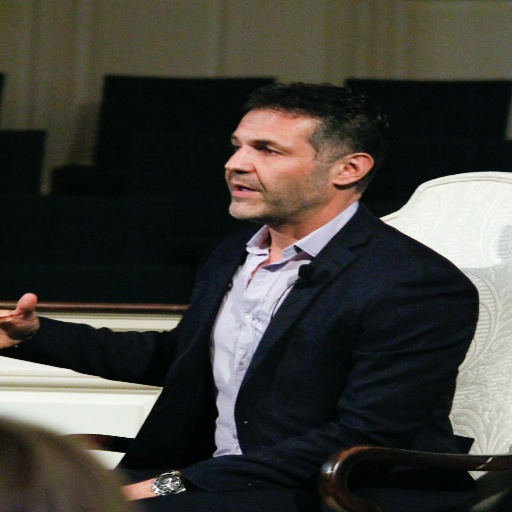hand: (1, 290, 39, 345), (120, 477, 158, 502)
